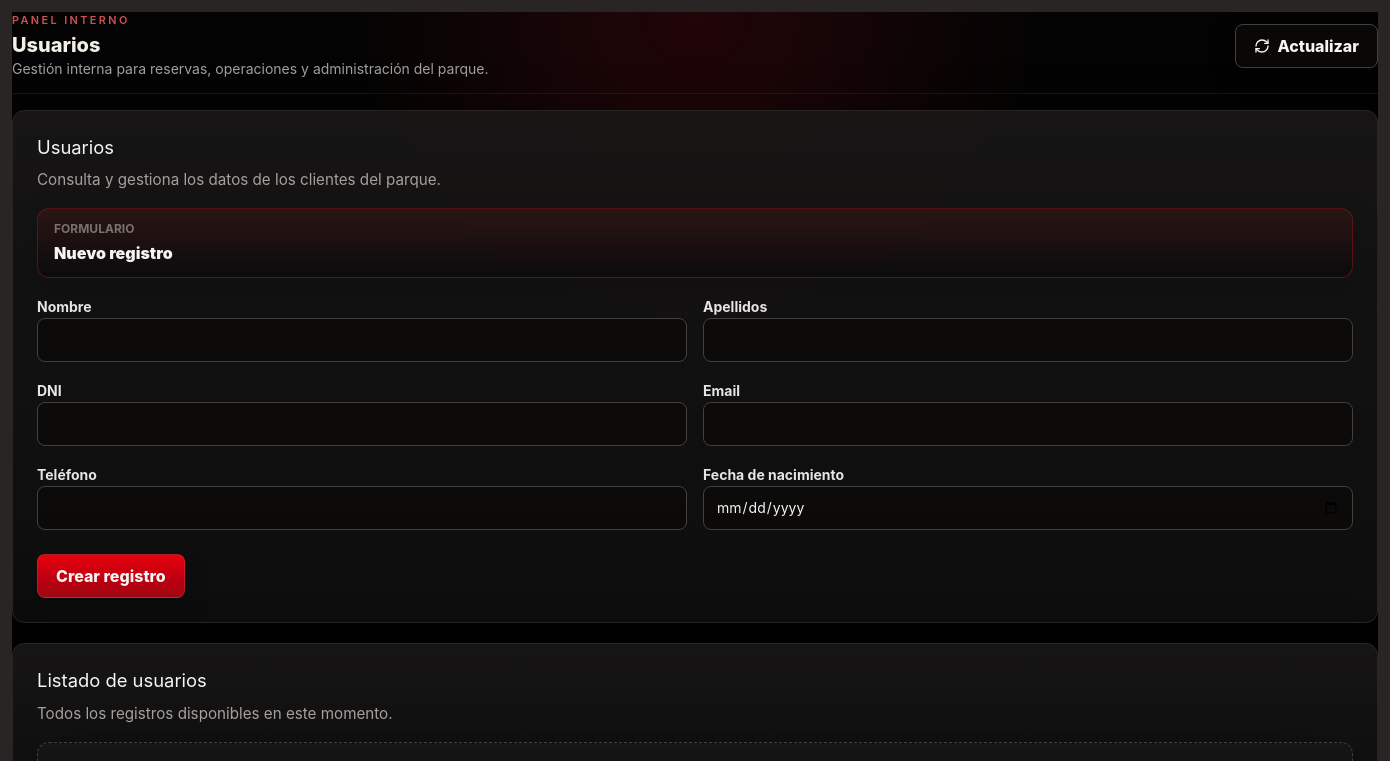
Test: DashboardPage › creates a new user from the entity manager
The image size is (1390, 761).
Expected: the button "Crear registro" is shown, [37,554,185,598]
In the field labelled "Nombre": x=362, y=340 [37,318,687,362], type "Mario"
In the field labelled "Apellidos": x=1028, y=340 [703,318,1353,362], type "Diaz"
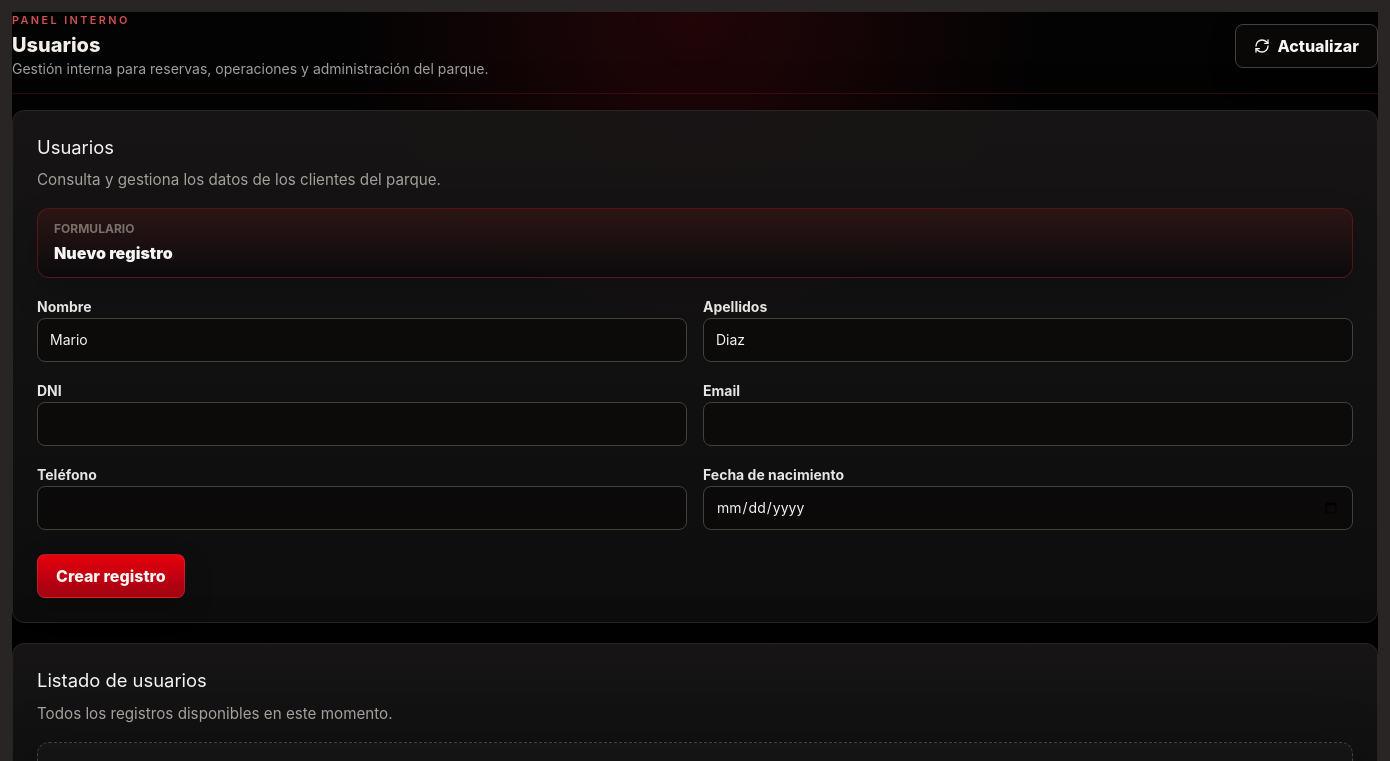
In the field labelled "DNI": x=362, y=424 [37,402,687,446], type "12345678Z"
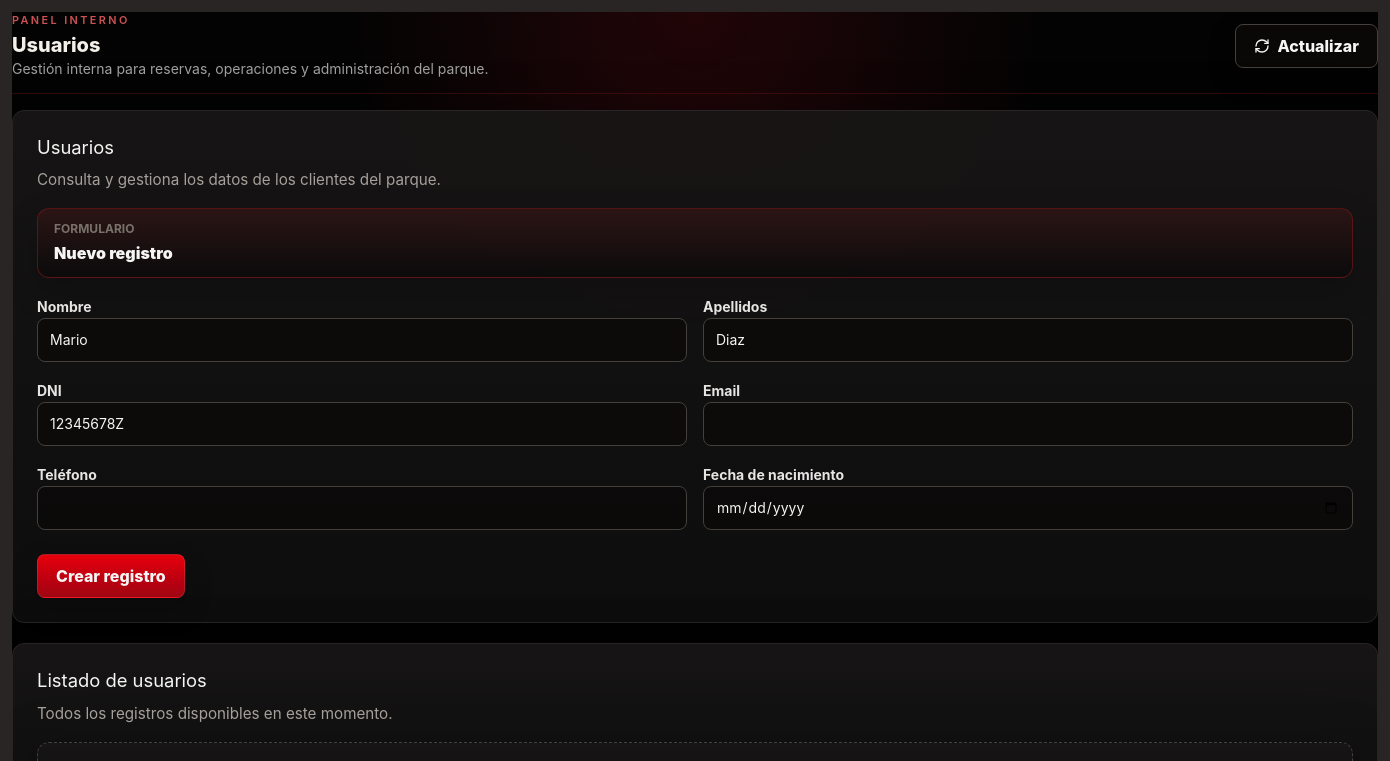
In the field labelled "Email": x=1028, y=424 [703,402,1353,446], type "mario@example.com"
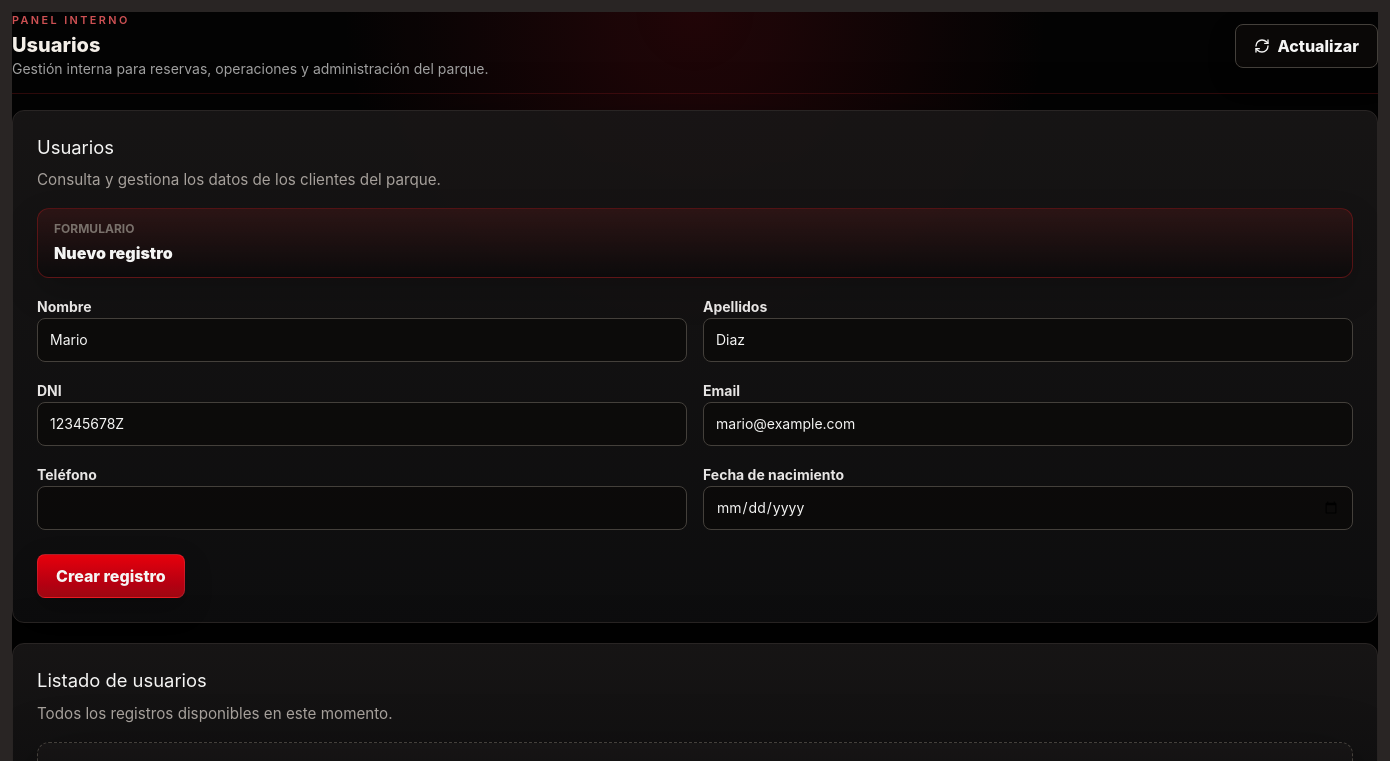
In the field labelled "Teléfono": x=362, y=508 [37,486,687,530], type "600000000"
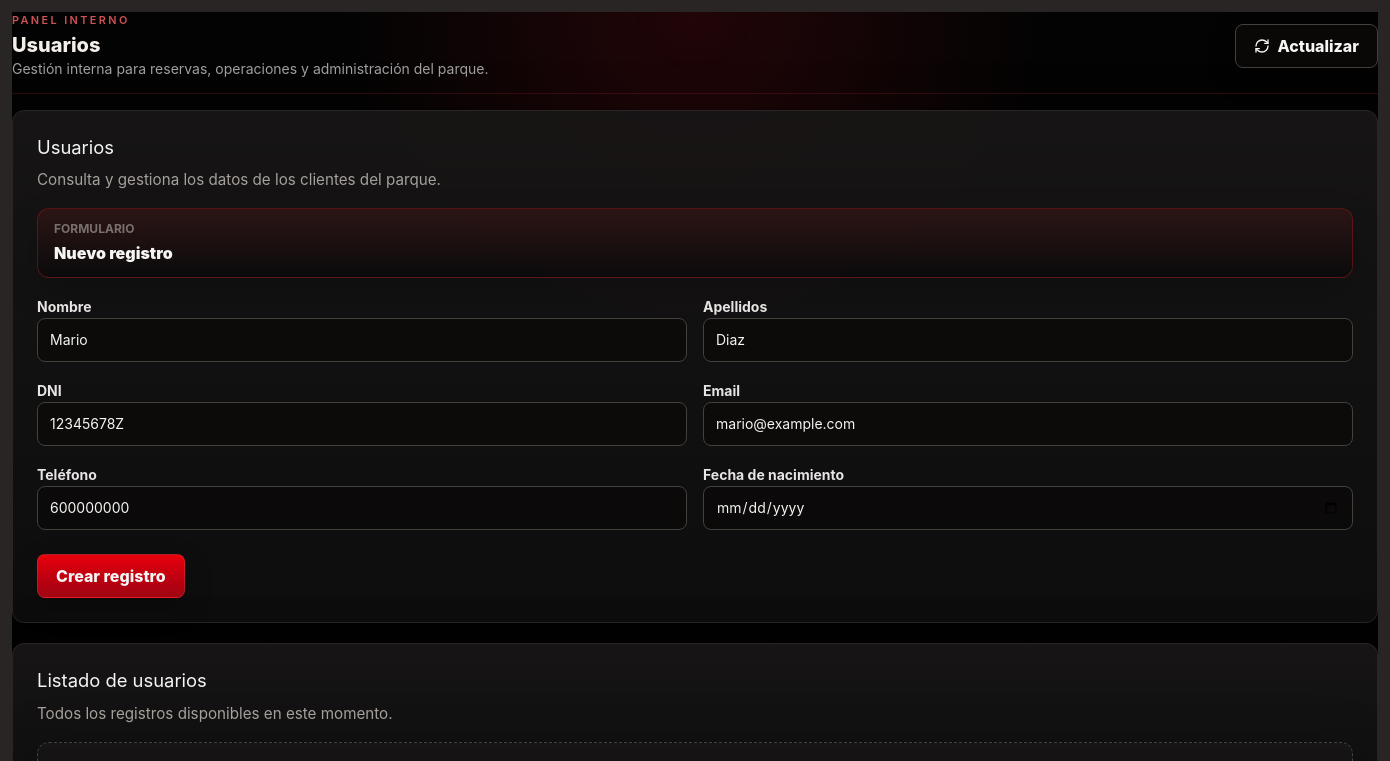
In the date field labelled "Fecha de nacimiento": x=1028, y=508 [703,486,1353,530], type "1991-05-10"
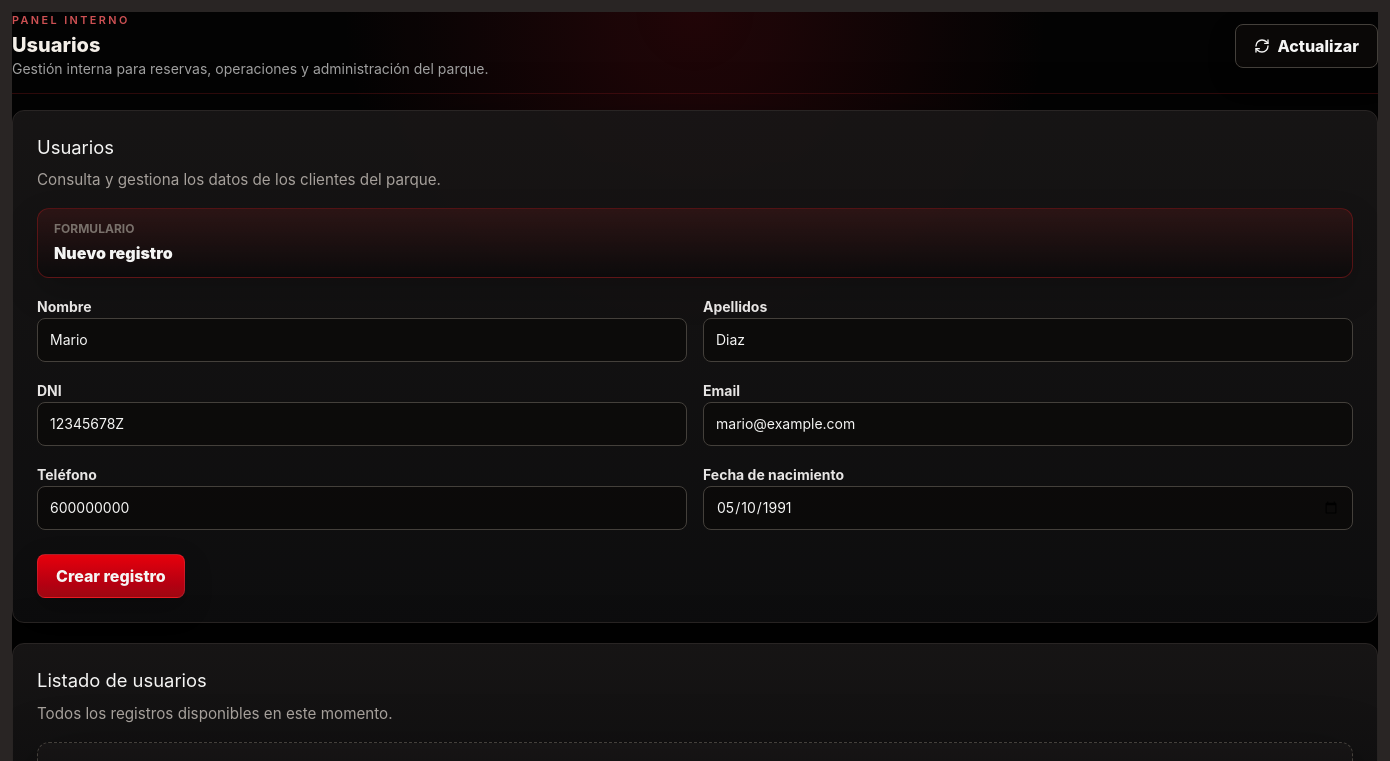
Click the button "Crear registro": x=111, y=576 [37,554,185,598]
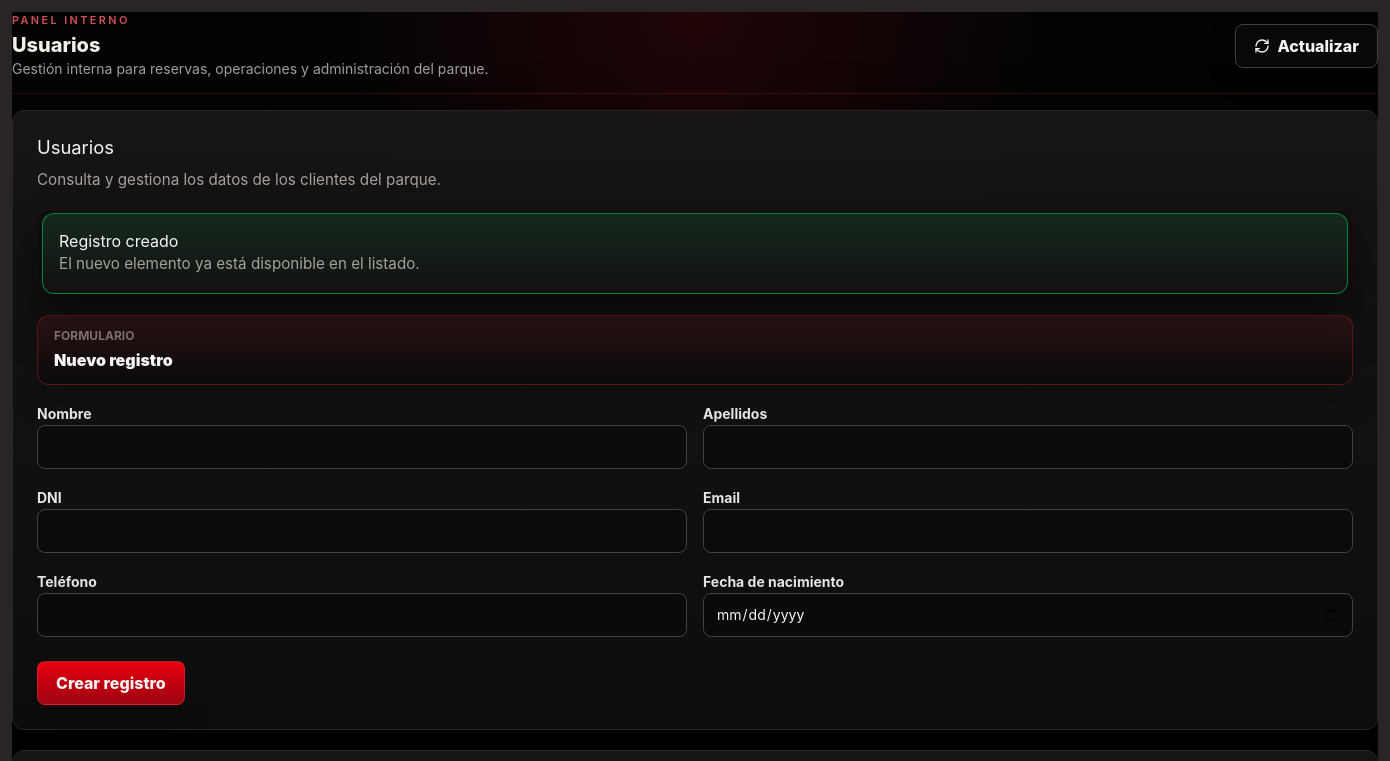
Expected: the text "El nuevo elemento ya está disponible en el listado." is shown, [59,254,420,273]
